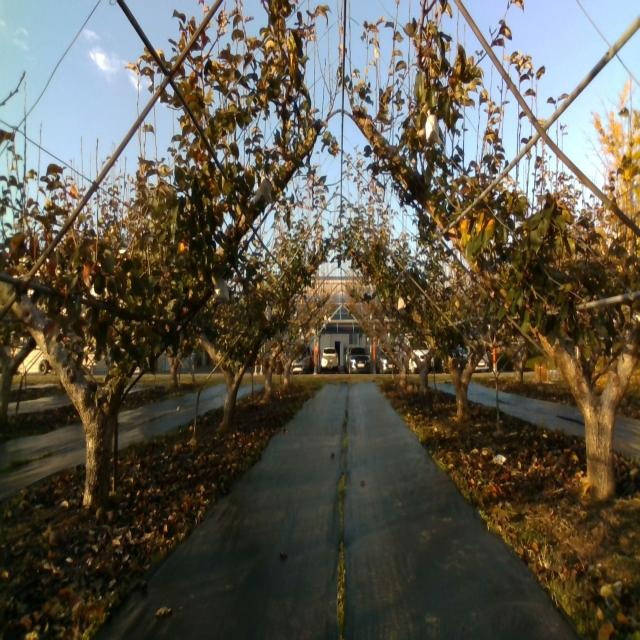pearbags: (425, 110, 440, 145), (254, 178, 272, 204), (213, 277, 229, 305)
